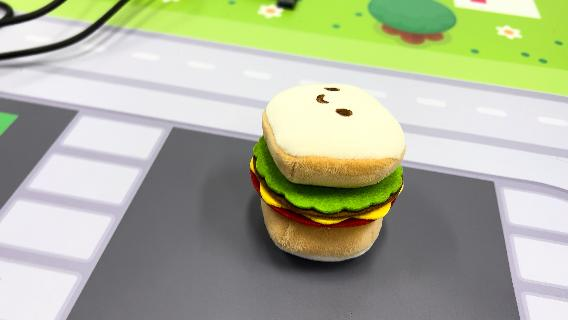sandwich: (247, 80, 409, 264)
